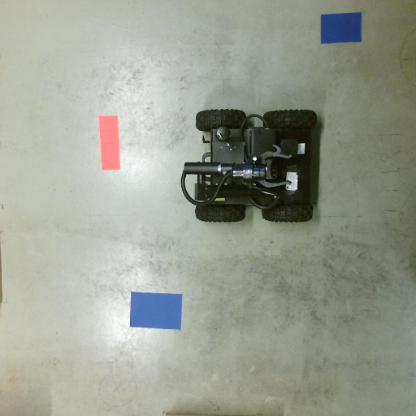Blue: (127, 289, 184, 334), (318, 10, 364, 46)
Jaguar: (179, 106, 317, 226)
Red: (96, 113, 123, 173)
